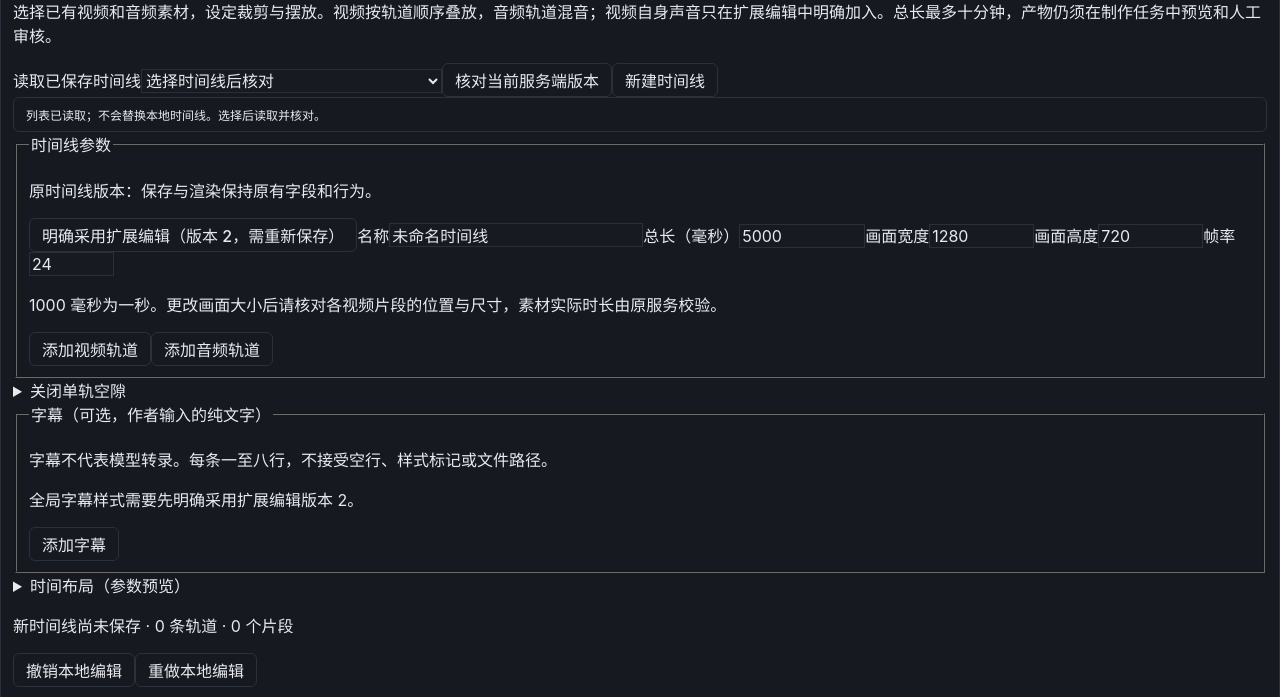
Test: rejects retained location after edits and undo restore the same contents
Select "SYNTHETIC CPU postproduction · v1" in the dropdown labelled "读取已保存时间线" at coordinates (292, 81), box [141,69,442,93]
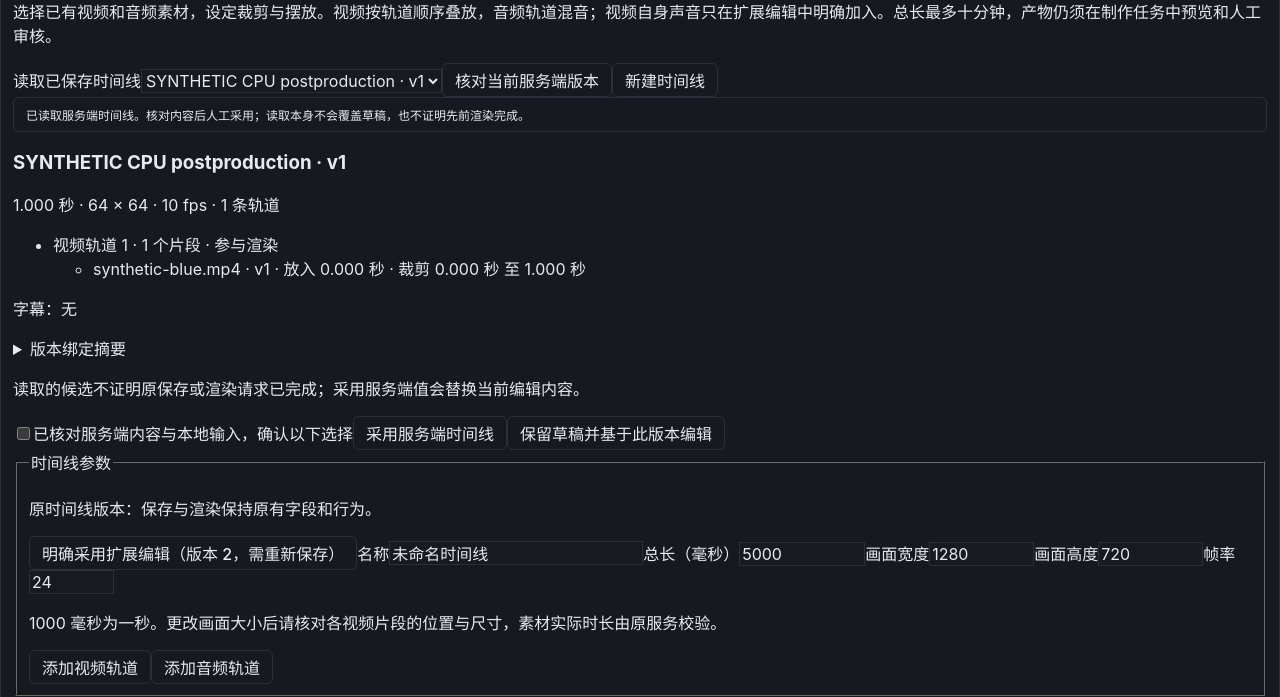
Now the element named "核对服务端时间线" is shown, box [13,151,725,450]
Click the checkbox labelled "已核对服务端内容与本地输入，确认以下选择" at coordinates (24, 434), box [17,427,30,440]
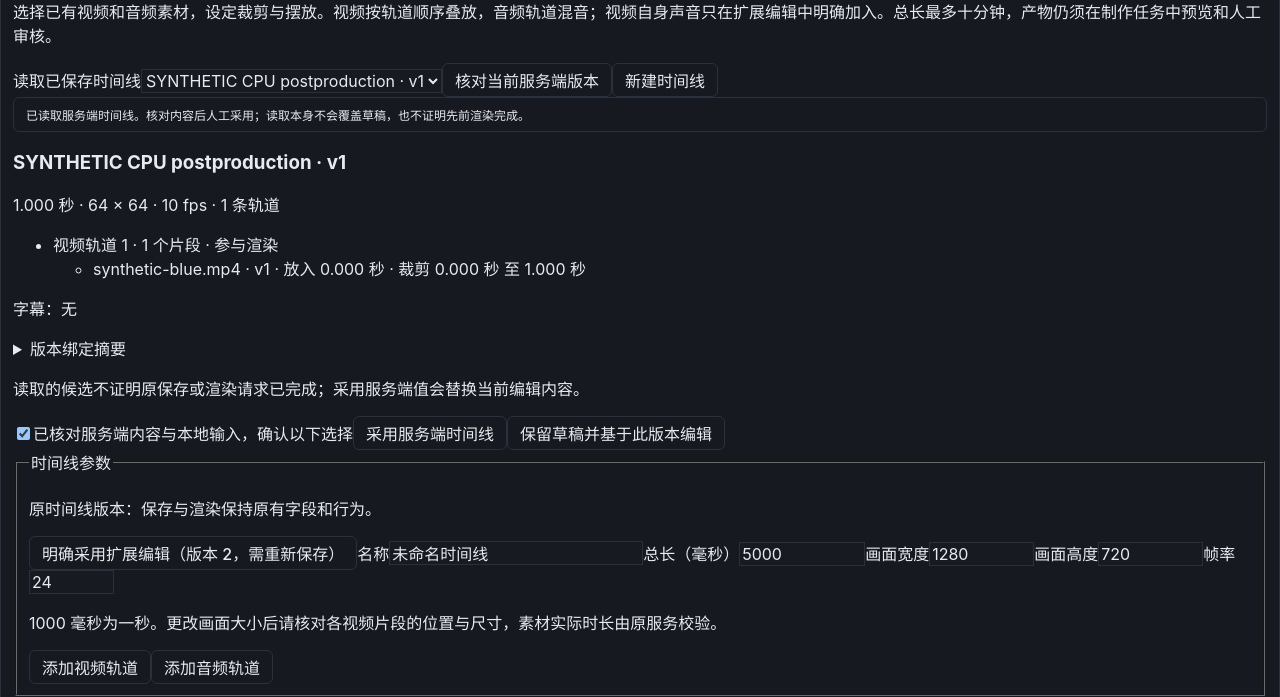
Click the button "采用服务端时间线" at coordinates (430, 433), box [353,416,507,450]
(page scrolled)
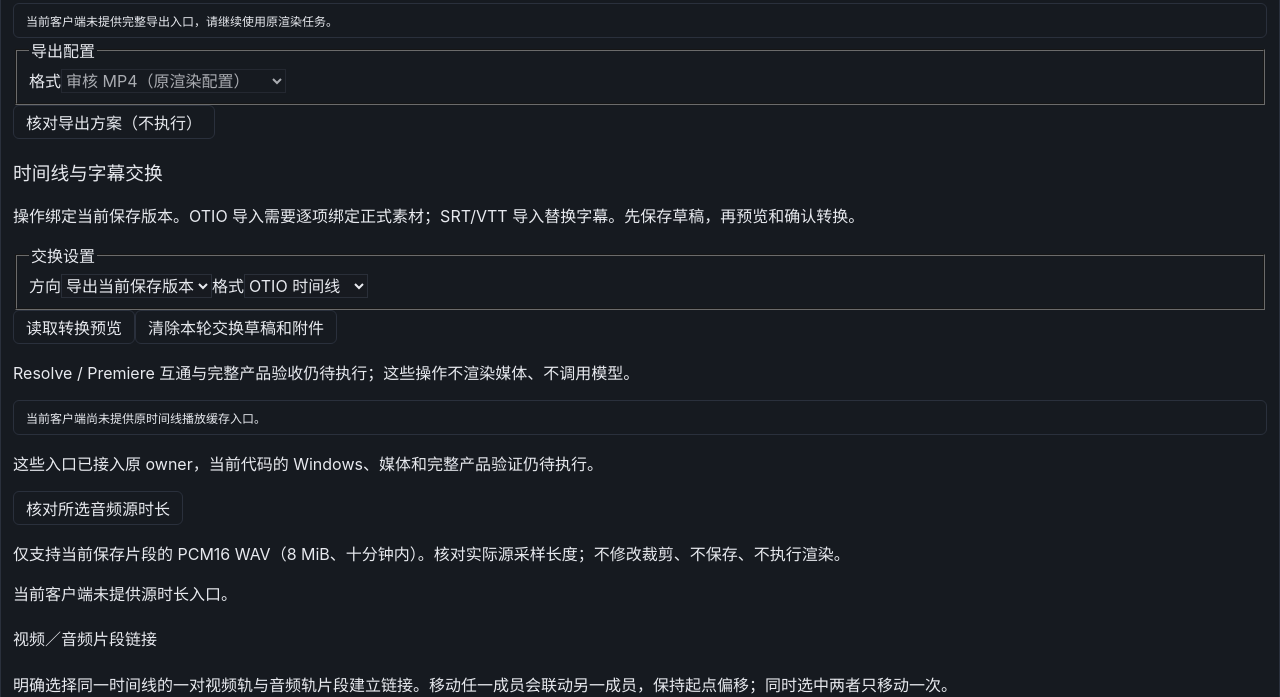
Click the button "读取转换预览" at coordinates (74, 327), box [13,310,135,344]
(page scrolled)
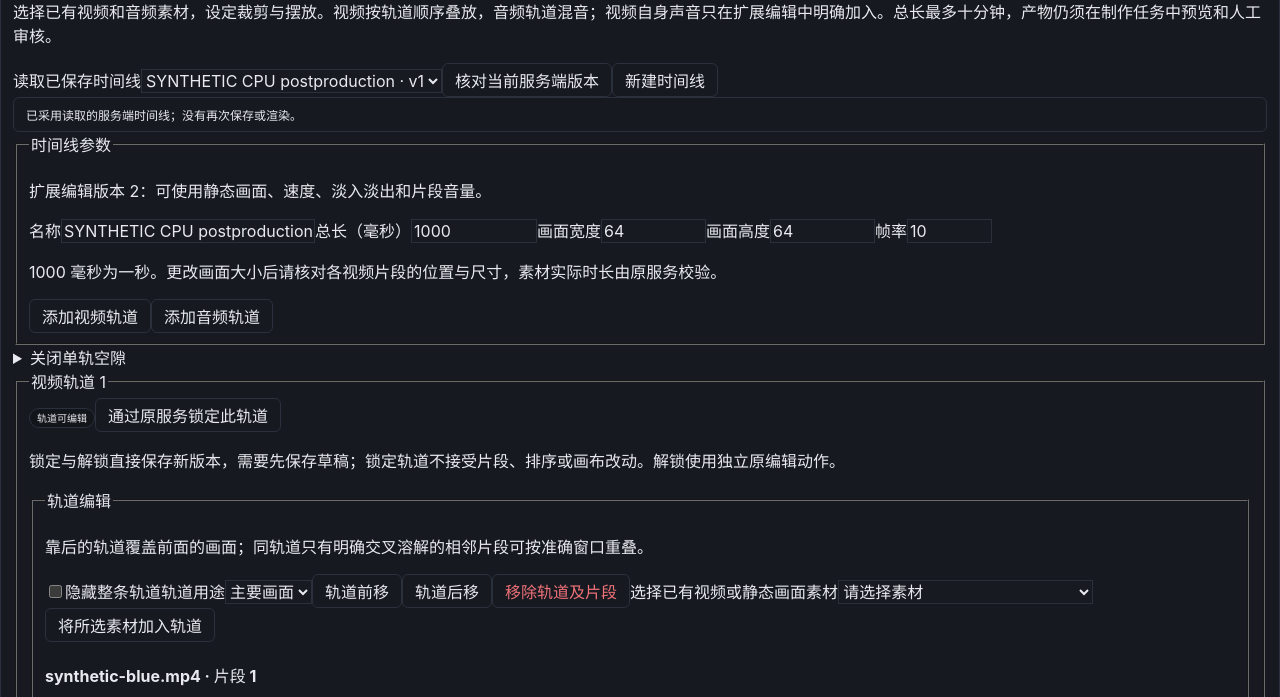
Replace the text in the field labelled "名称" with "temporary" at coordinates (188, 231), box [61,219,315,243]
(page scrolled)
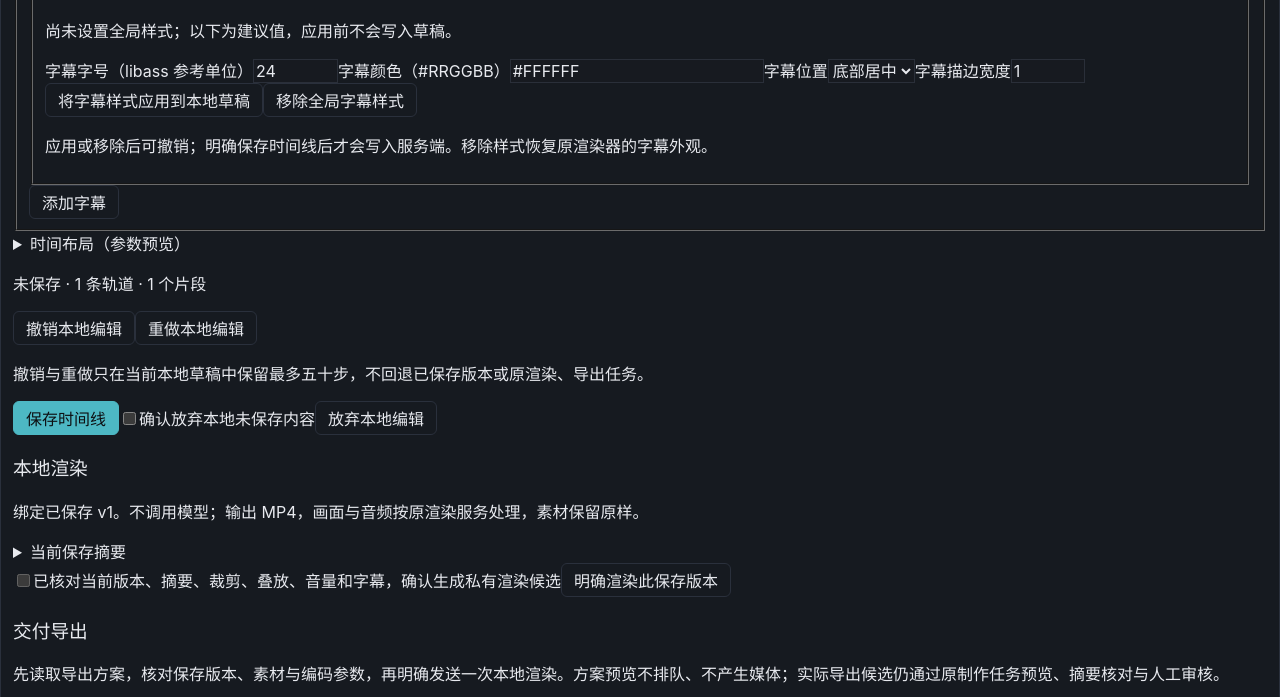
Click the button "撤销本地编辑" at coordinates (74, 328), box [13,310,135,344]
(page scrolled)
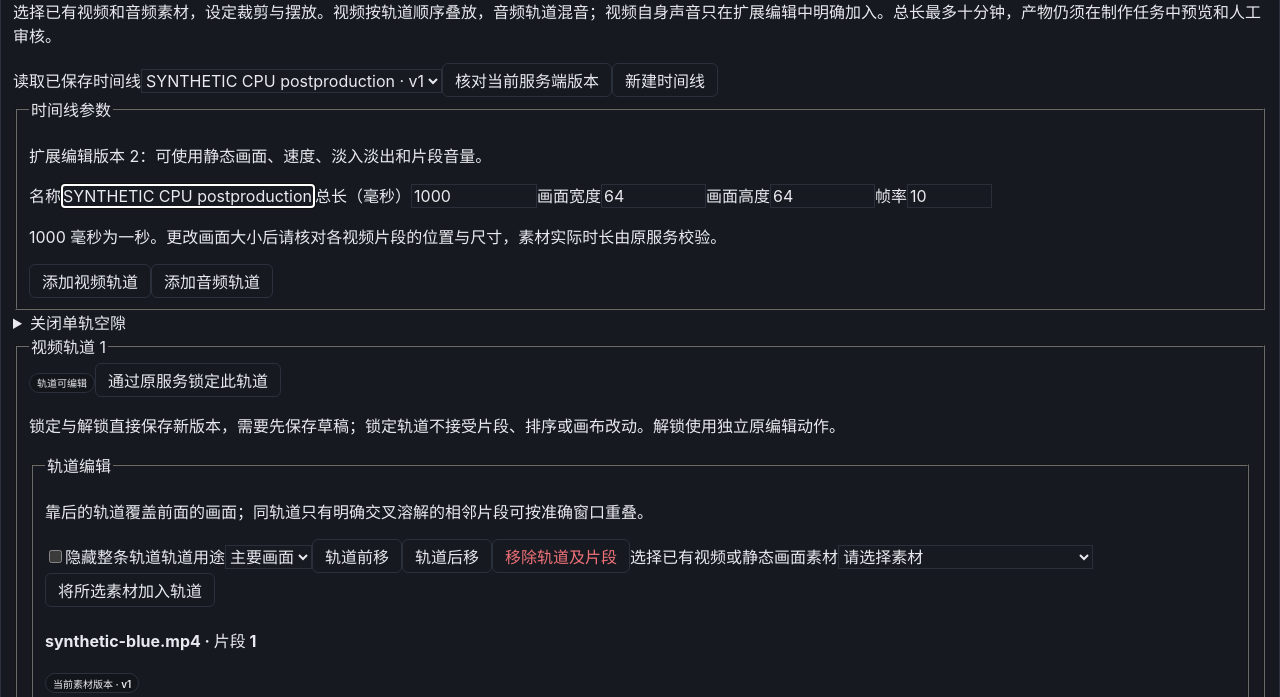
Now the field labelled "名称" holds "SYNTHETIC CPU postproduction", box [61,184,315,208]
